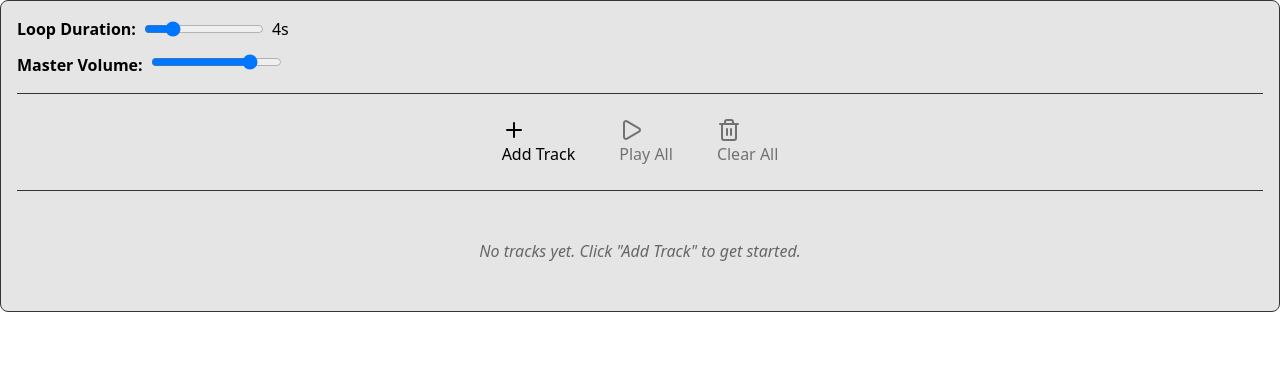
Scenario: AudioLooper › adds a track when add track button is clicked
Click the button "Add Track" at (538, 142), box [486,110,591,174]
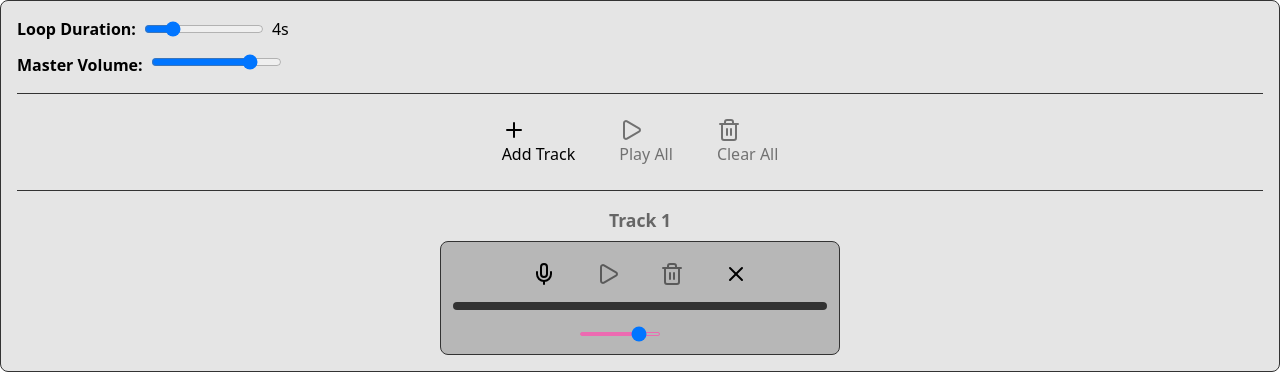
Expected: the text "Track 1" is shown, [609,207,671,233]
Expected: the button titled "Record" is shown, [516,254,572,294]
Expected: the button titled "Play" is shown, [580,254,636,294]
